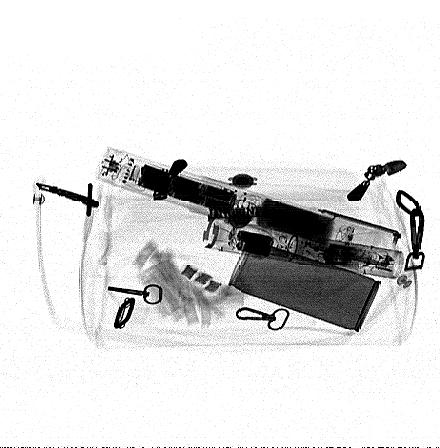Baton: (97, 146, 404, 269), (203, 215, 406, 281)
